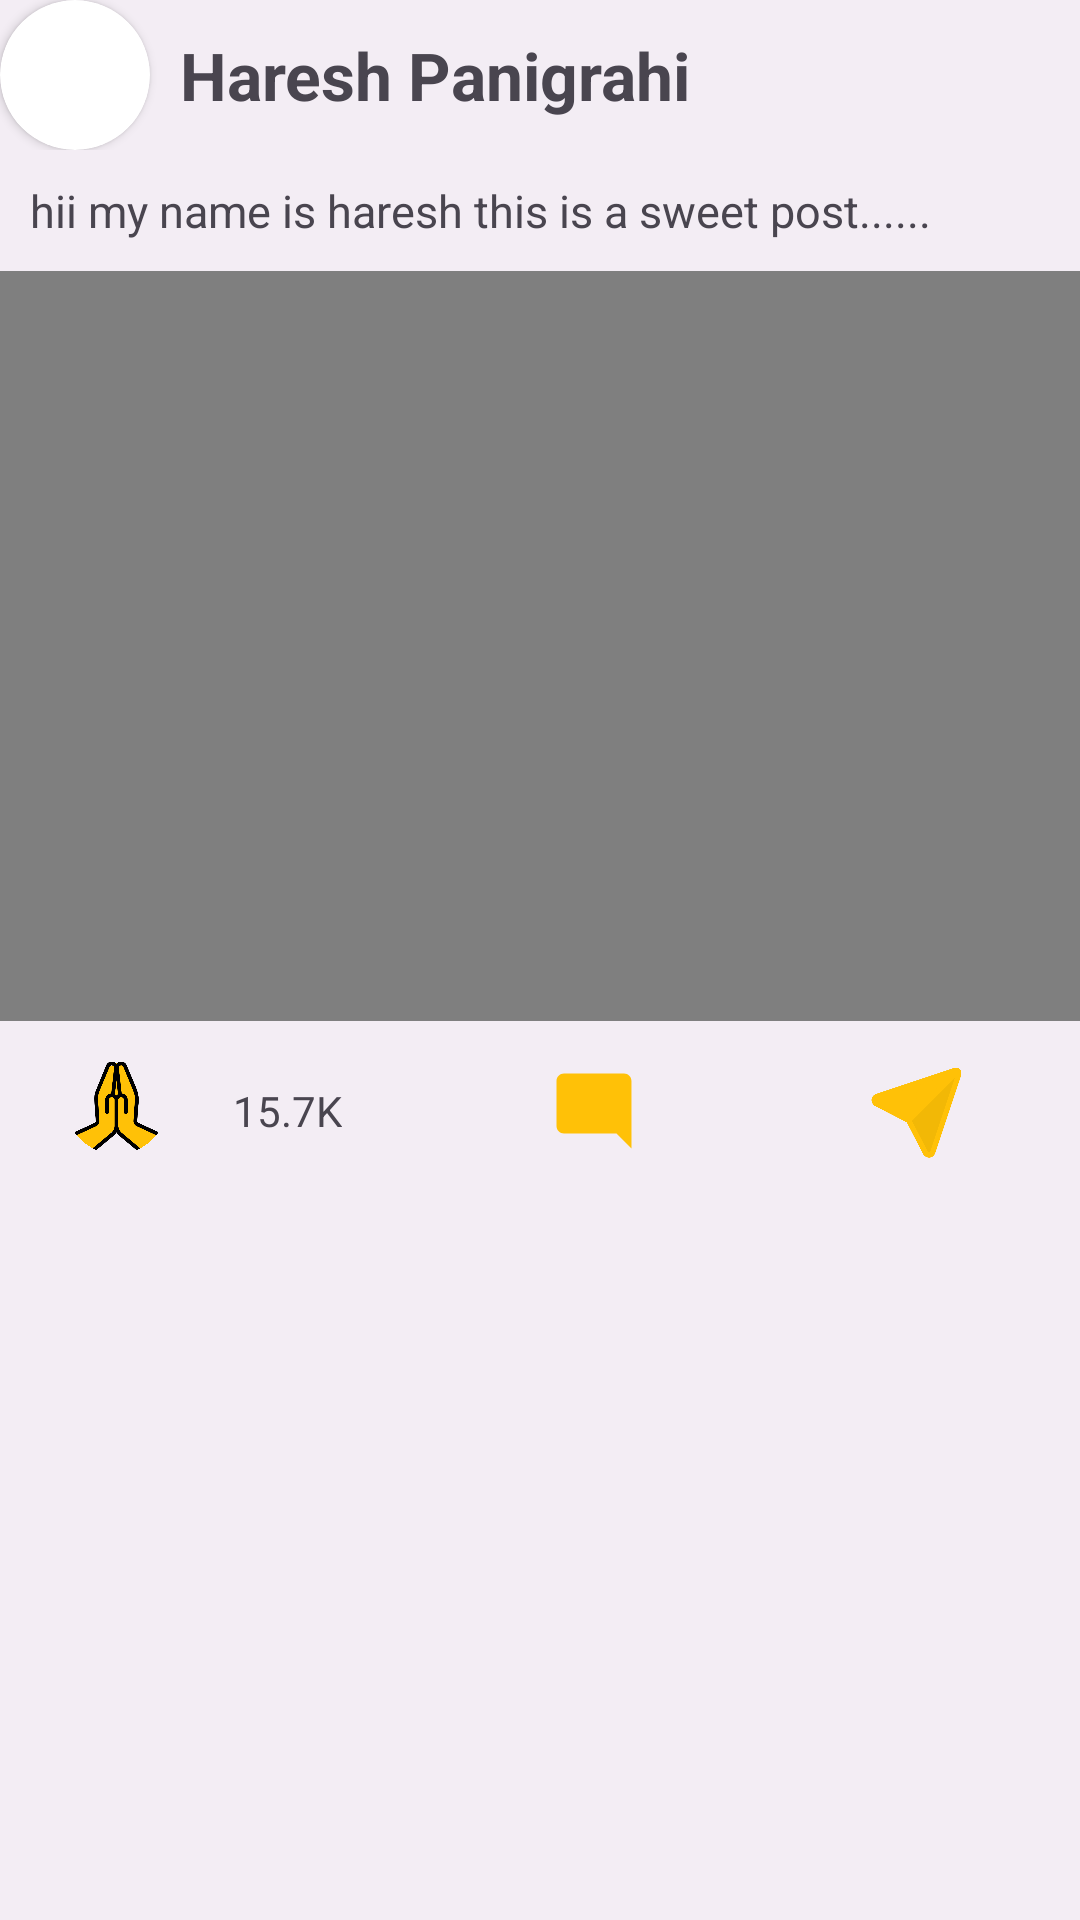

Named icons in this screenshot (1080×1920) and their bounding boxes, bbox=[x1, y1, x2, y2]:
mode comment: bbox=[556, 1073, 632, 1149]
share: bbox=[871, 1068, 961, 1158]
